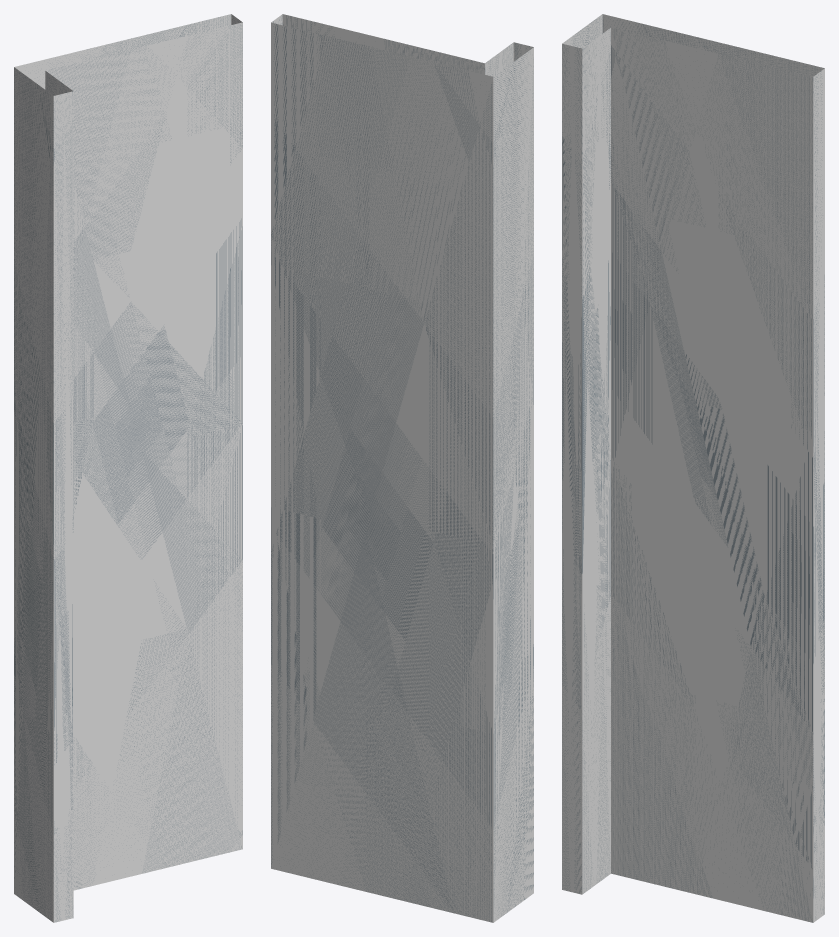
Rendered from PW_CornerFixElem_ds_T3_035x110x010x400.dae.
The picture shows the model from 3 angles, left to right: view 1: azimuth 30°, elevation 25°; view 2: azimuth 150°, elevation 25°; view 3: azimuth 330°, elevation 25°; orthographic projection. The views are drawn at different scales.
Visible parts, largest first — view 1: group_0; view 2: group_0; view 3: group_0.
Part boxes in pixels (x1=…): group_0: x1=14, y1=14, x2=242, y2=922; group_0: x1=271, y1=14, x2=533, y2=922; group_0: x1=562, y1=14, x2=824, y2=922.
Bounding box in the file's own units: 43.31 × 13.67 × 157.
